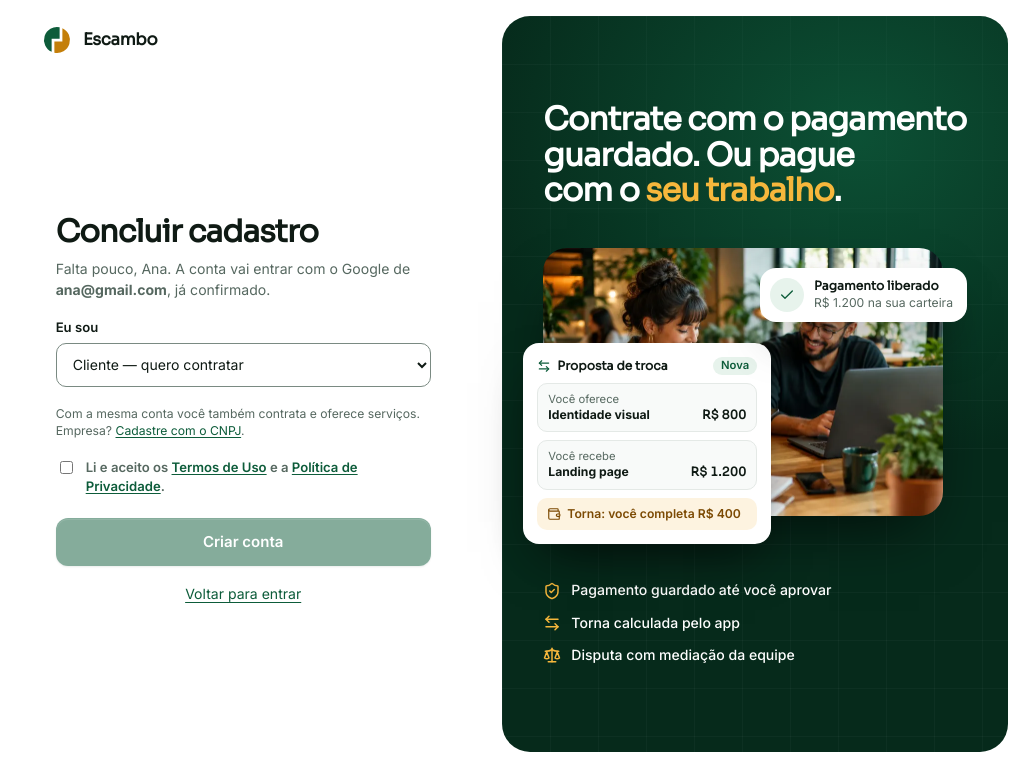
Test: GoogleReturnView › conta nova: Concluir cadastro › erro comum fica no formulário; passe vencido ou e-mail que ganhou conta vira a tela de erro
This screenshot has width=1024, height=768.
Click the checkbox: (66, 468) [60,461,73,474]
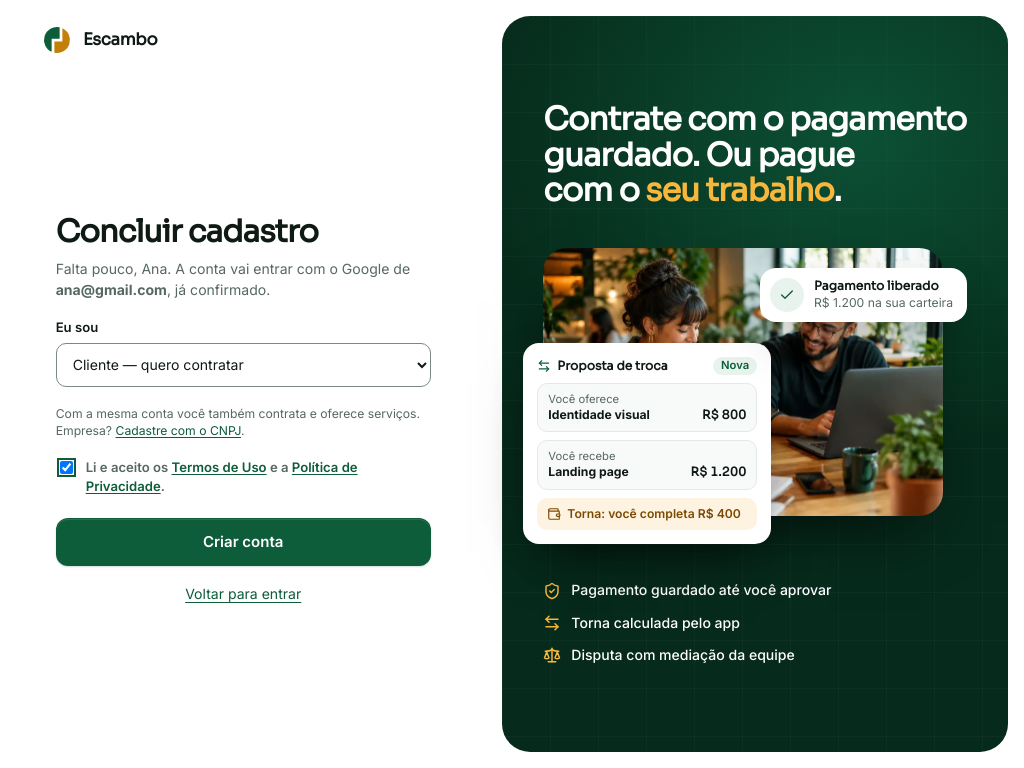
Click the button "Criar conta": (243, 542) [56,518,431,566]
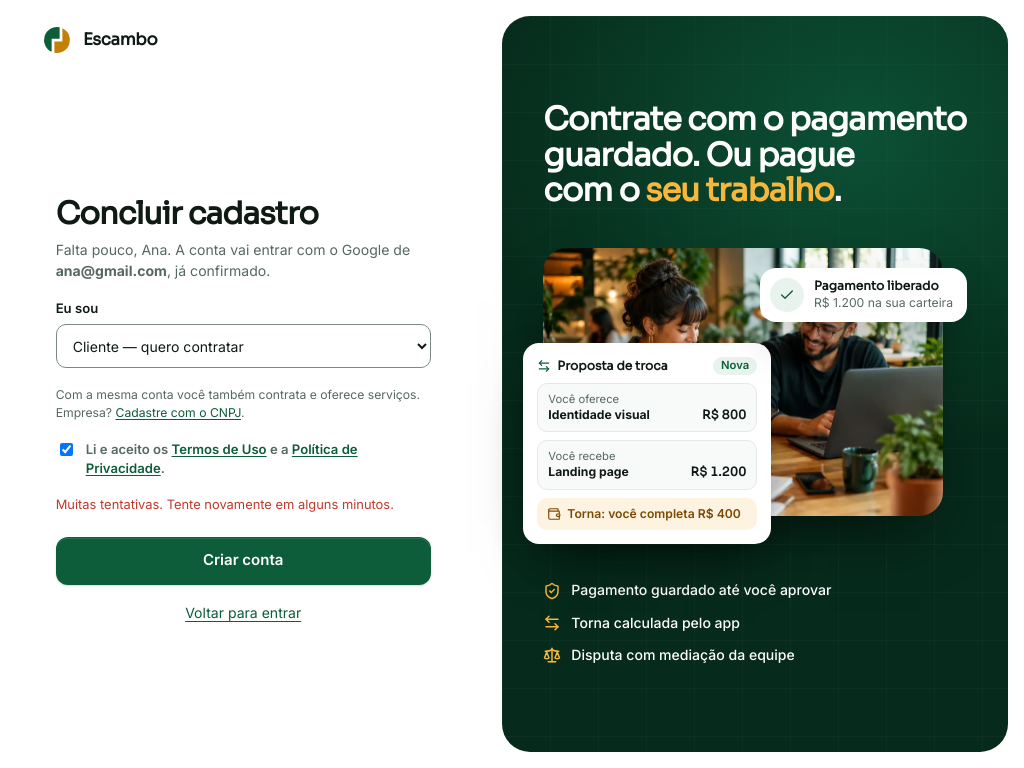
Expected: the button "Criar conta" is enabled
Expected: the message shows "Muitas tentativas", [56,497,394,512]
Click the button "Criar conta": (243, 560) [56,536,431,584]
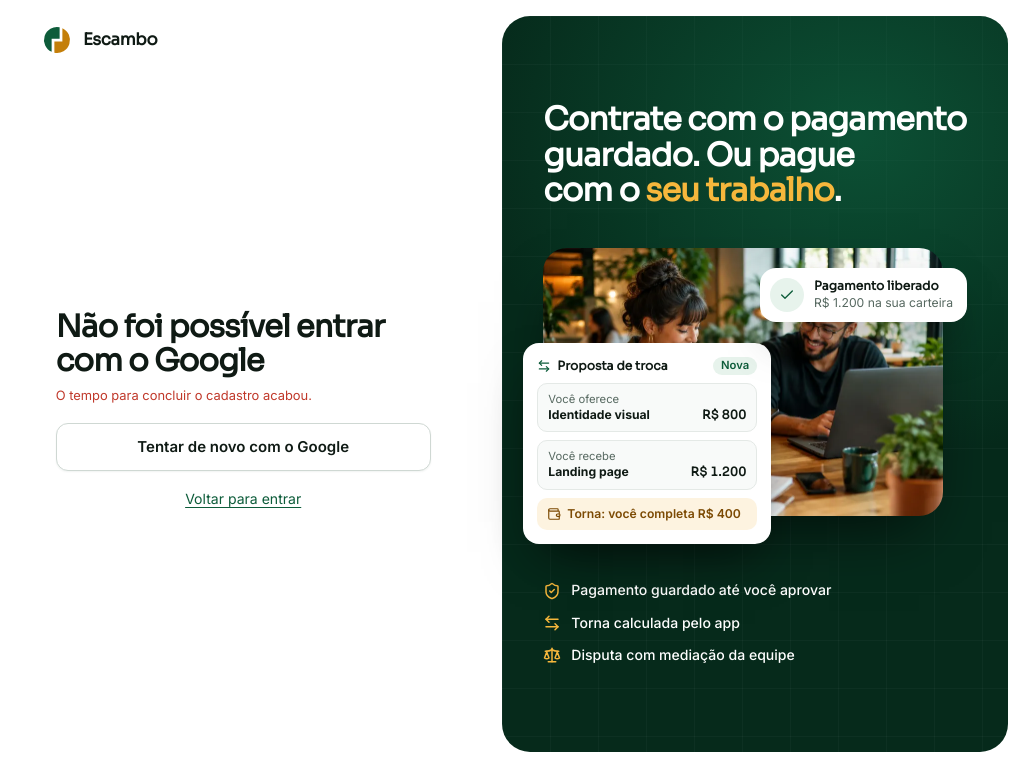
Expected: the heading "Não foi possível entrar com o Google" is shown, [56,310,431,379]
Expected: the message reads "O tempo para concluir o cadastro acabou.", [56,388,312,403]
